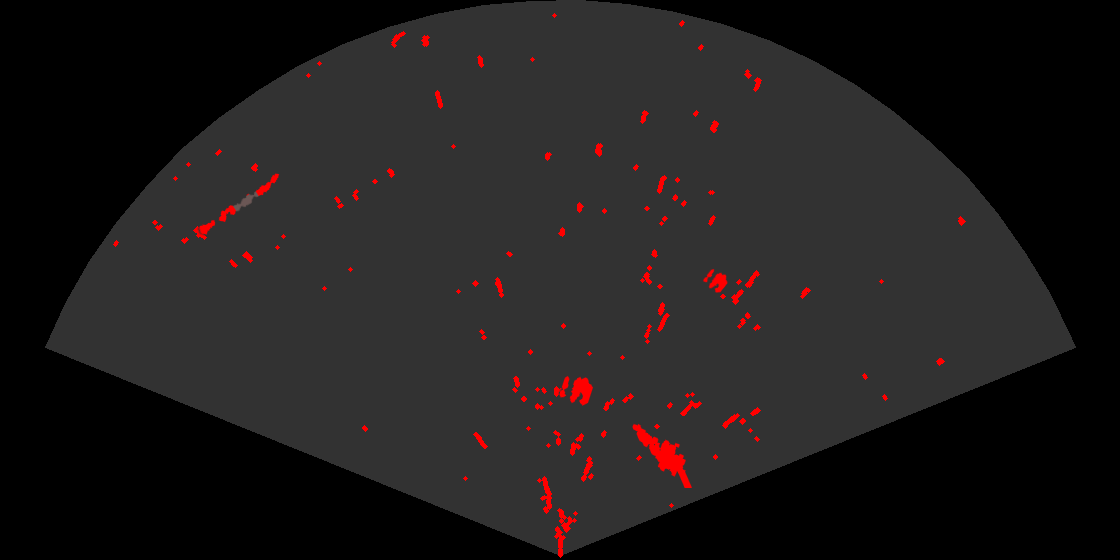ball: (558, 374, 595, 407), (701, 267, 729, 294)
chain: (197, 172, 281, 236)
frogman: (631, 422, 693, 488)
